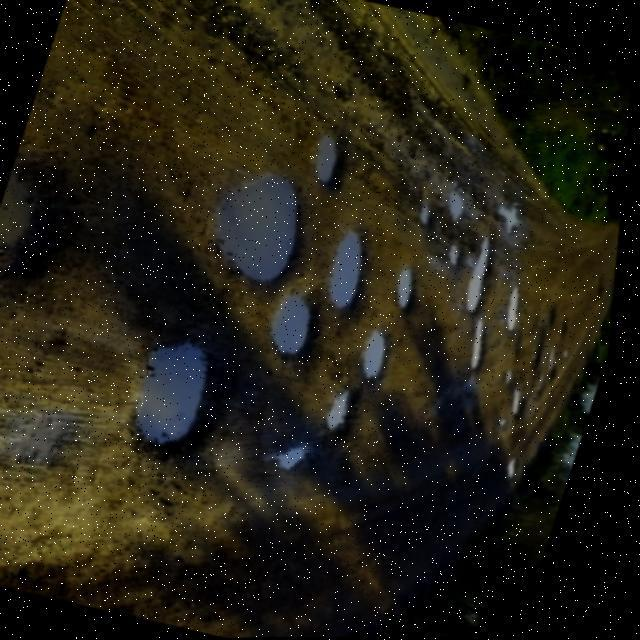pothole: (112, 326, 250, 467), (190, 156, 330, 290), (0, 158, 90, 284), (251, 283, 344, 367), (451, 224, 523, 322), (315, 222, 390, 314), (448, 300, 526, 380), (288, 120, 374, 192), (343, 320, 418, 384), (318, 381, 386, 444), (382, 260, 433, 316), (504, 380, 550, 424)
